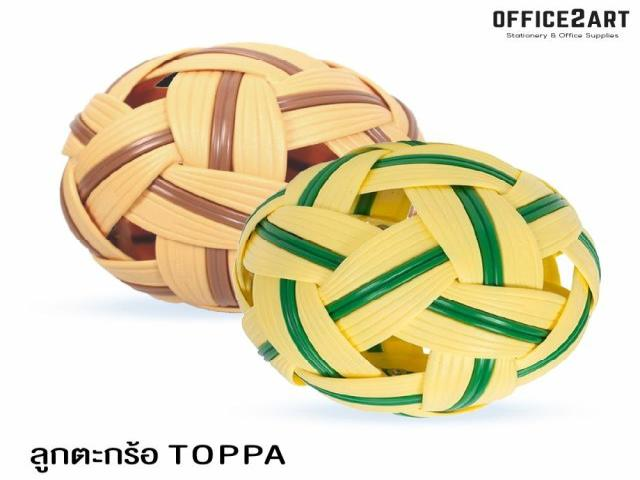round ball: (234, 140, 599, 416), (61, 43, 419, 311)
